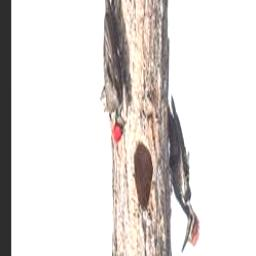Woodpecker: (168, 97, 200, 256), (103, 0, 127, 144)
